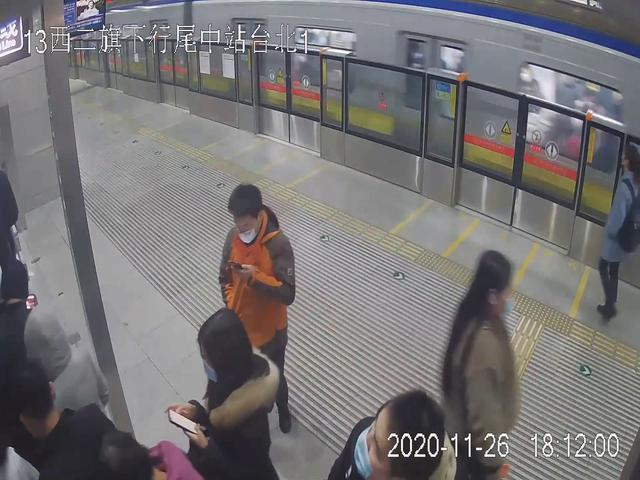person: (216, 181, 297, 431), (179, 307, 276, 480), (448, 250, 517, 480), (599, 140, 640, 322)
